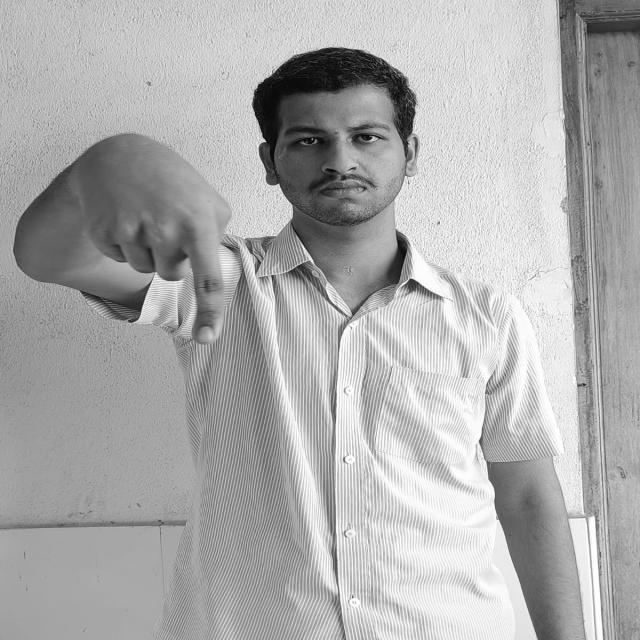Now: (68, 140, 224, 353)
